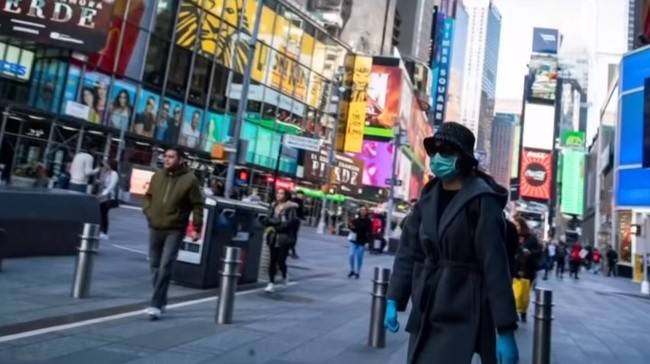face_with_mask: (423, 122, 475, 184)
